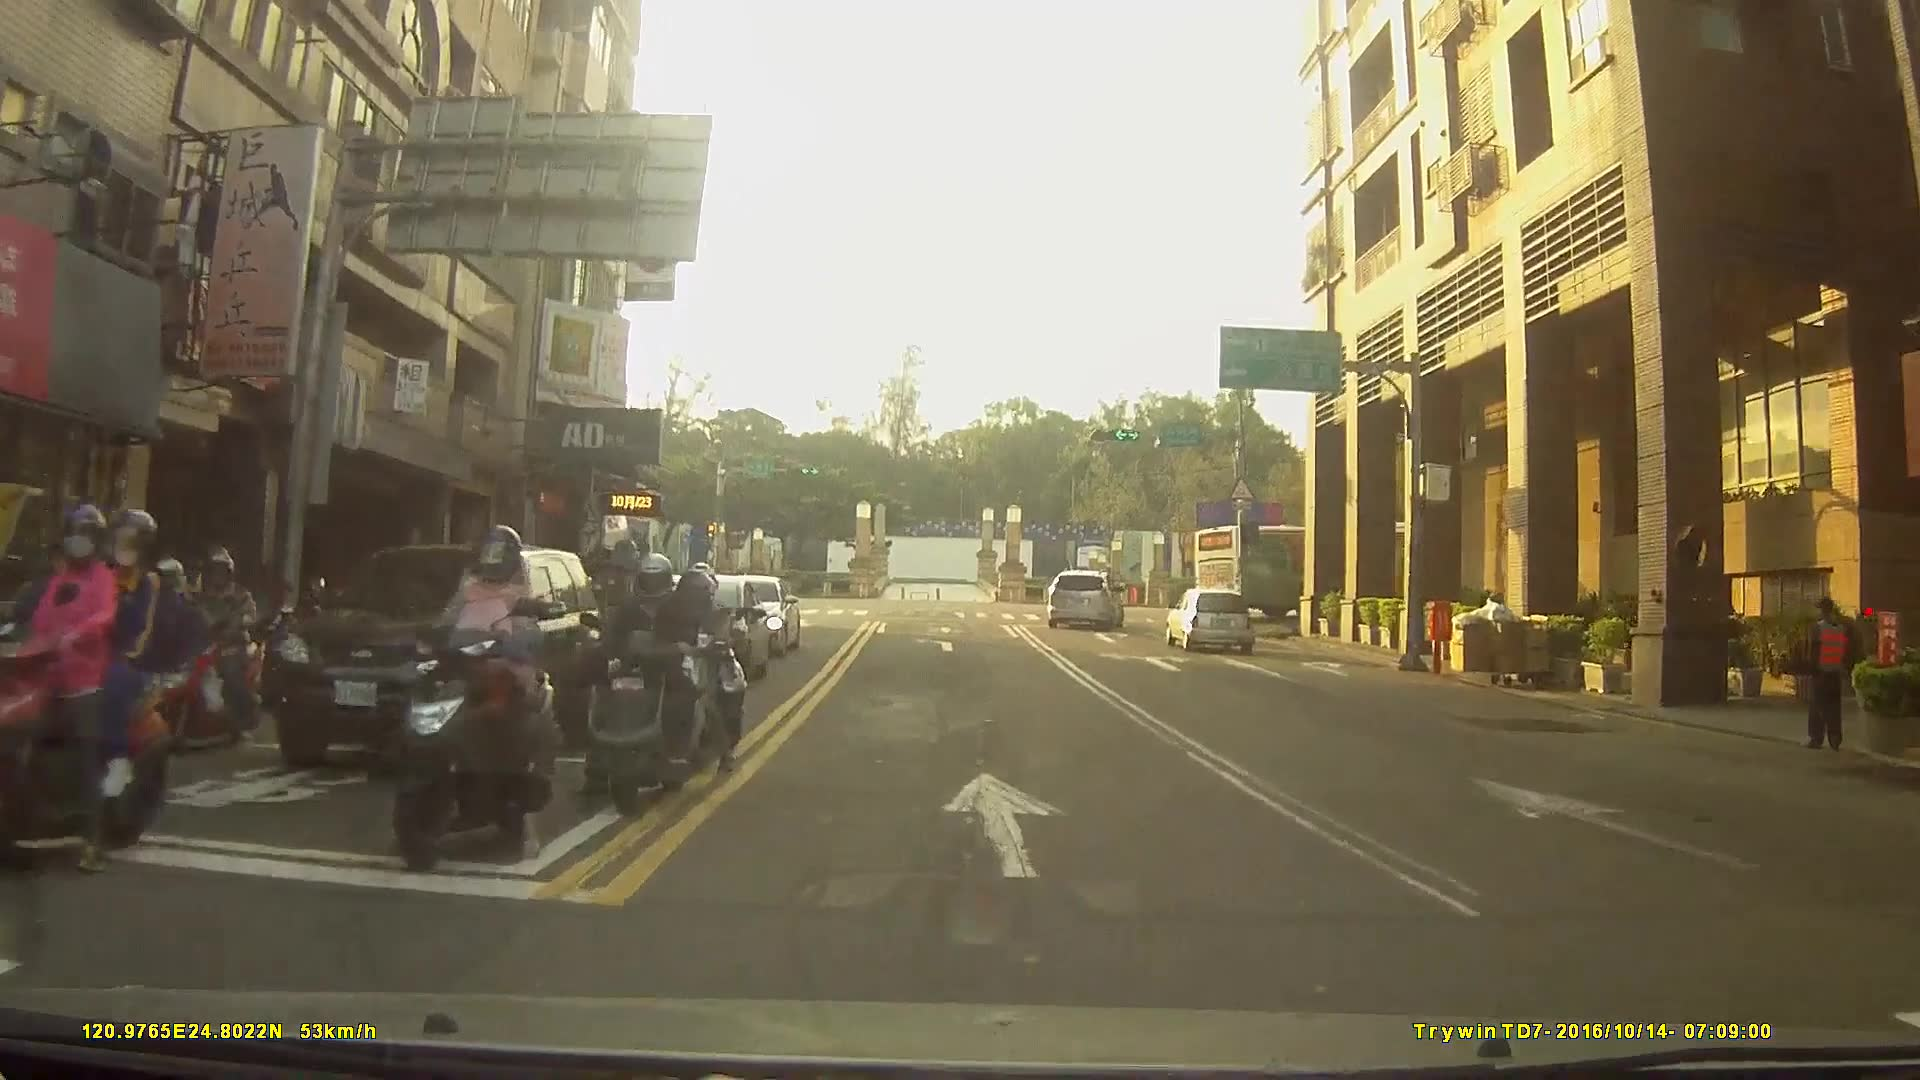pedestrian: (1801, 595, 1853, 762)
rider: (1, 502, 214, 880), (386, 526, 566, 868), (579, 552, 703, 819), (146, 552, 270, 763)
vehicle: (264, 544, 604, 768), (1196, 521, 1462, 614), (1163, 583, 1257, 650), (1045, 568, 1123, 628)
